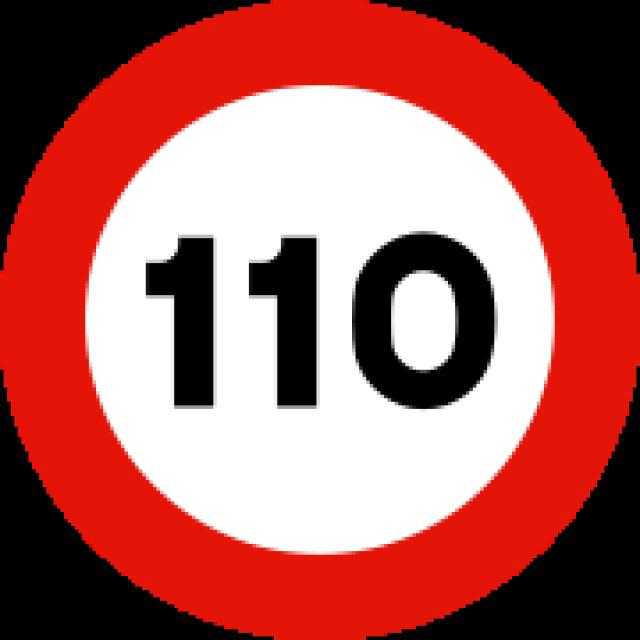Speed Limit -110-: (129, 217, 513, 427)
